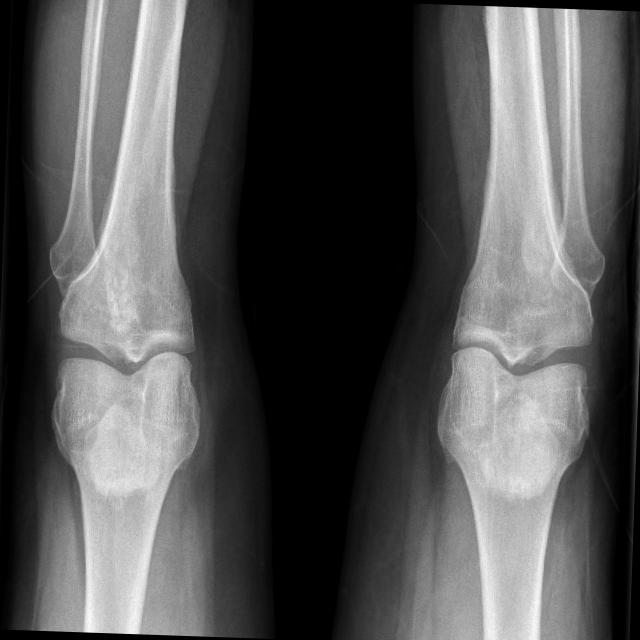Knee: (435, 266, 597, 467), (51, 287, 207, 470)
